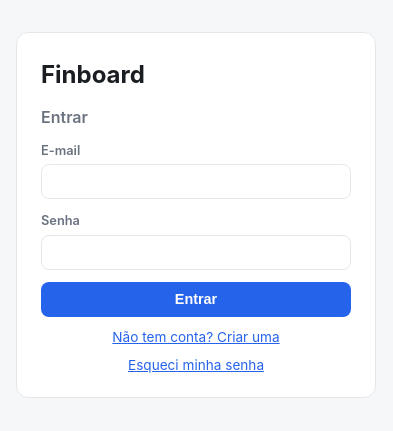
Scenario: AuthScreen › mostra o erro da API e não abre sessão quando a credencial está errada
The image size is (393, 431).
Type "lucas@example.com" into the field labelled "E-mail" at (196, 182), box [41,164,351,199]
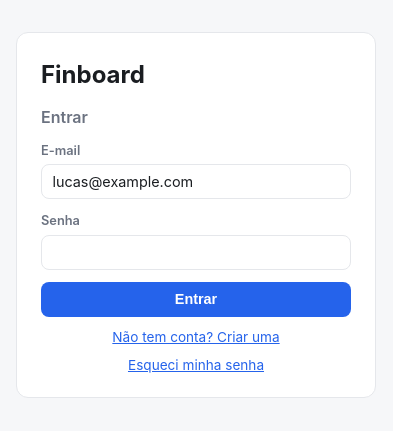
Type "senha-errada-123" into the password field labelled "Senha" at (196, 252), box [41,235,351,270]
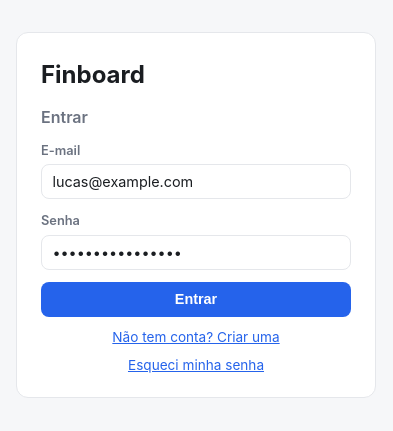
Click the button "Entrar" at (196, 299), box [41,282,351,317]
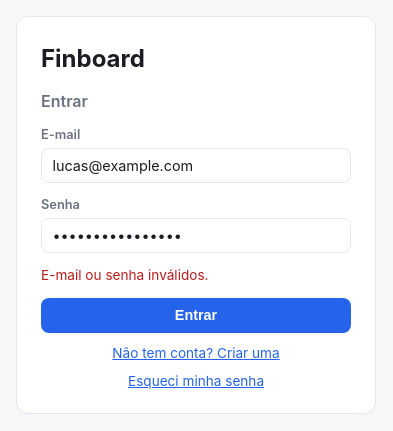
expect the button "Entrar" is shown: met, box [41,298,351,333]
expect the message reads "E-mail ou senha inválidos.": met, box [41,267,208,283]
